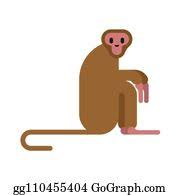monkey: (23, 11, 173, 170)
